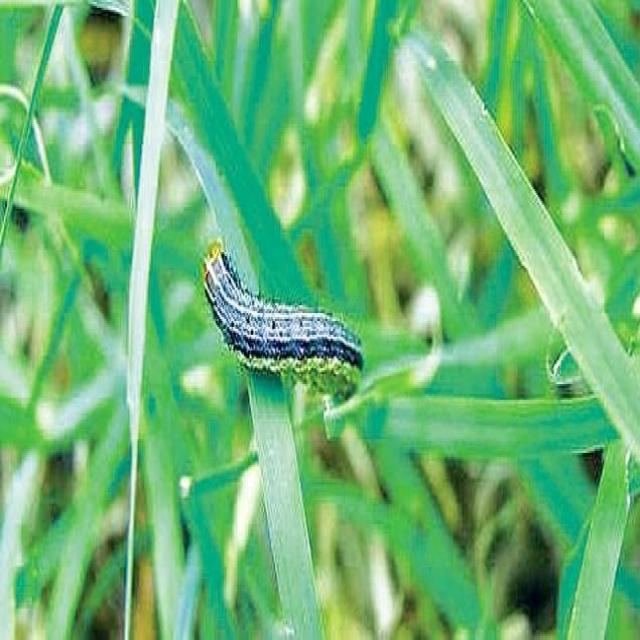army worm: (198, 234, 370, 390)
